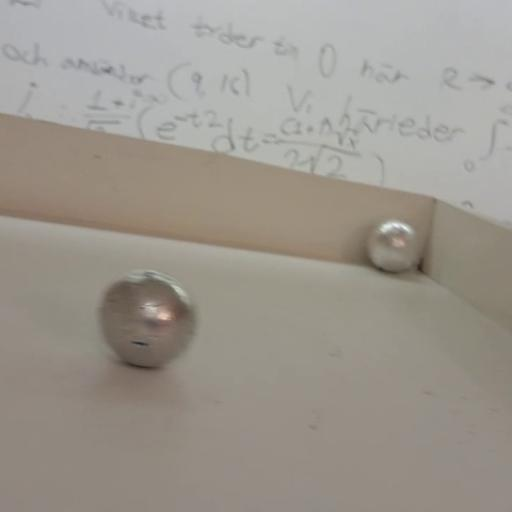alive: (97, 269, 196, 368), (366, 219, 420, 272)
